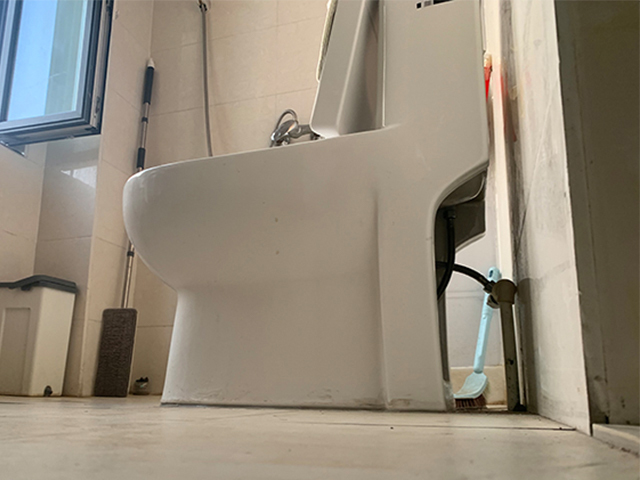closestool: (121, 1, 488, 412)
trashcan: (1, 274, 78, 397)
